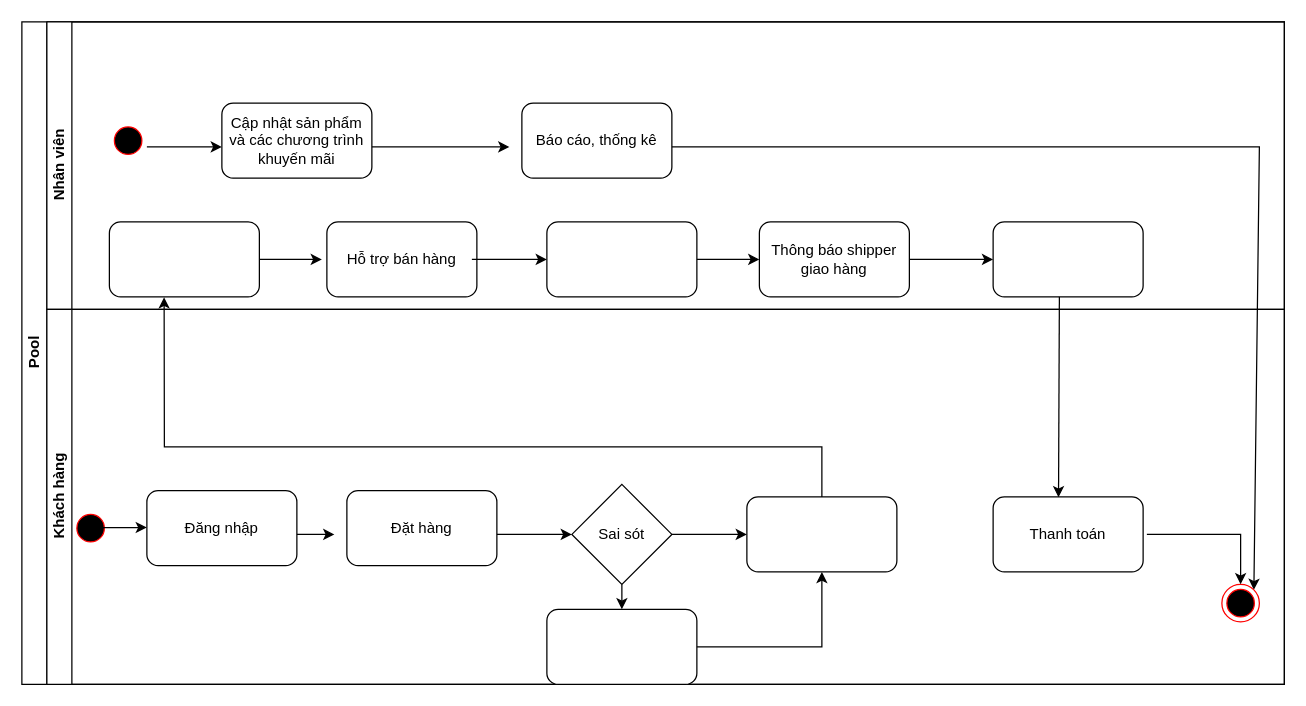
Image size: 1306x706. Some labels were removed from this diagram. Each missing label, with the centre of its shape:
Làm đơn hàng: the point at 621,259
Nhận thông báo đơn hàng: the point at 183,259
Theo dõi đơn hàng: the point at 1067,259
Xác nhận đơn hàng: the point at 821,534
Đổi trả: the point at 621,646
